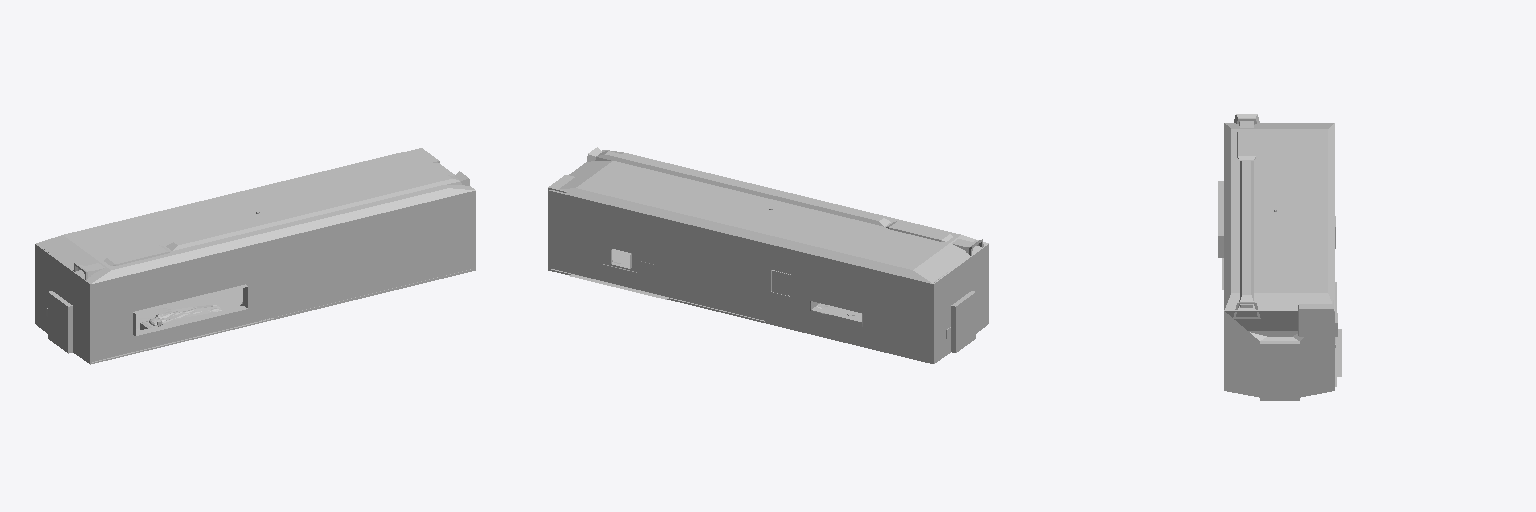
3 renders of one model, left to right at view 1: azimuth 30°, elevation 25°; view 2: azimuth 150°, elevation 25°; view 3: azimuth 270°, elevation 25°, orthographic.
Parts seen in each view (by area): view 1: pCube2, pCube43, pCube54, pPlane4, pPlane5; view 2: pCube2, pCube43, pCube3, pCube45; view 3: pCube2, pCube43, pCube5.
Part boxes in pixels (x1,y1,x2,y2): pCube2: (35,151,475,364); pCube43: (73,171,469,280); pCube54: (133,284,247,335); pPlane4: (92,293,273,362); pPlane5: (155,305,221,322); pCube2: (548,150,988,363); pCube43: (587,147,983,255); pCube3: (810,301,862,326); pCube45: (641,261,659,294); pCube2: (1224,123,1337,400); pCube43: (1233,114,1260,318); pCube5: (1298,300,1333,336).
Size of the model in its own units: 61.67 by 14.25 by 16.63.